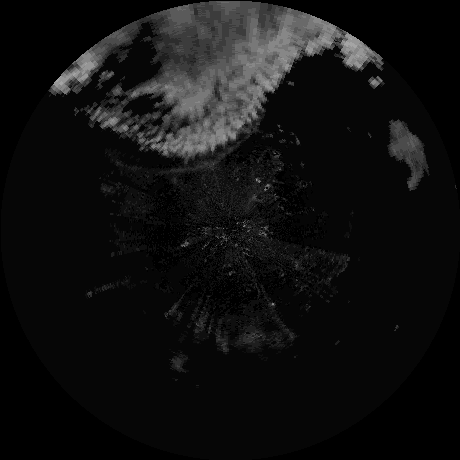frontgust: (157, 135, 249, 176)
